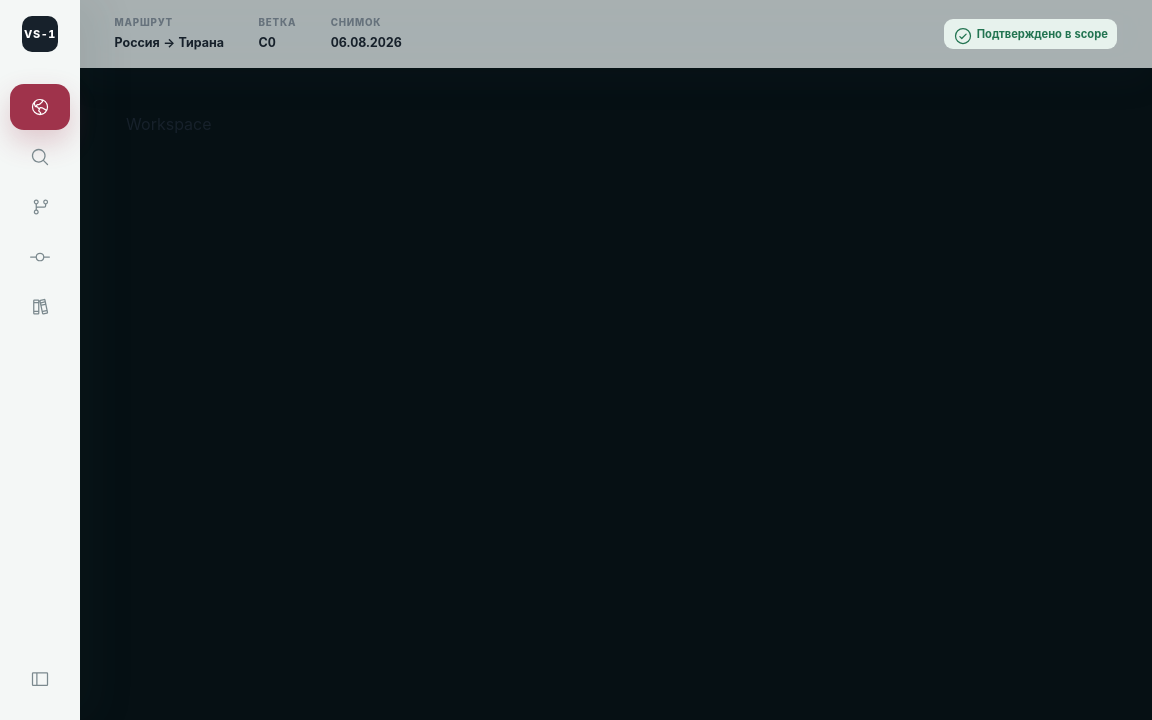
Scenario: responsive product shell › expands the navigation rail while retaining accessible destination names
The image size is (1152, 720).
Expected: the 2nd icon is shown, [30,97,50,117]
Click the button named "раскрыть навигацию".
click(40, 681)  # box [10,658,70,704]
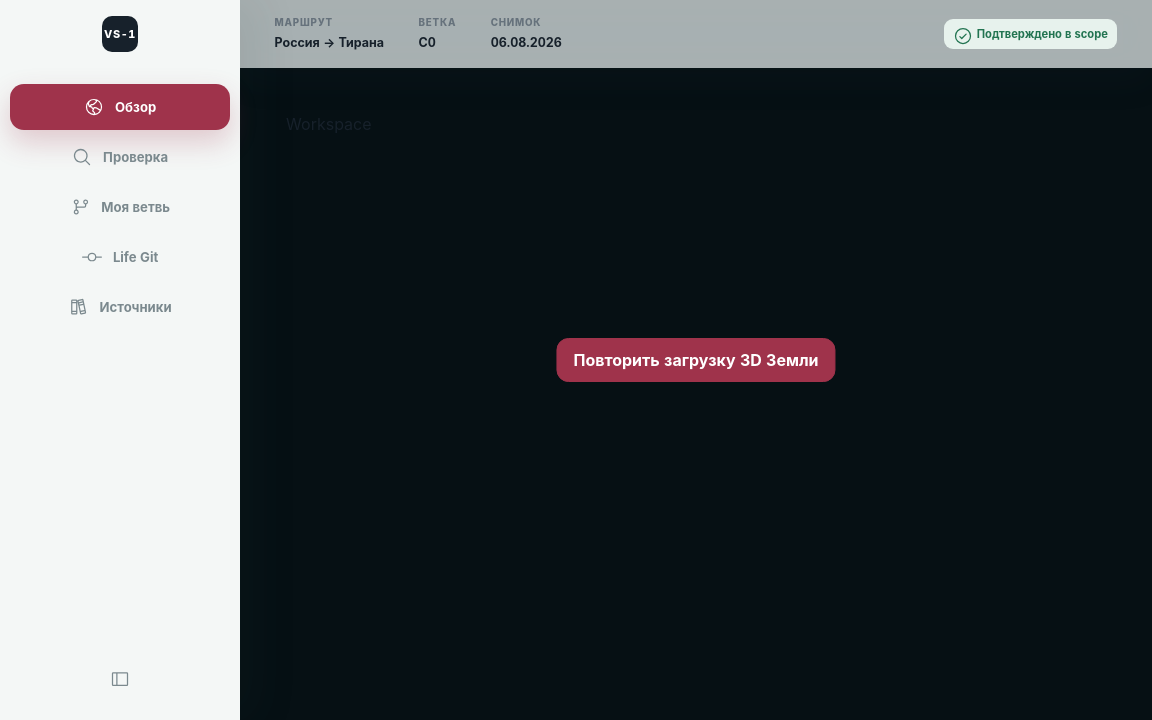
Now the button named "свернуть навигацию" is expanded, box [10,658,230,704]
